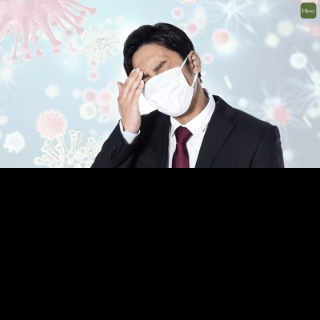with_mask: (137, 59, 196, 117)
